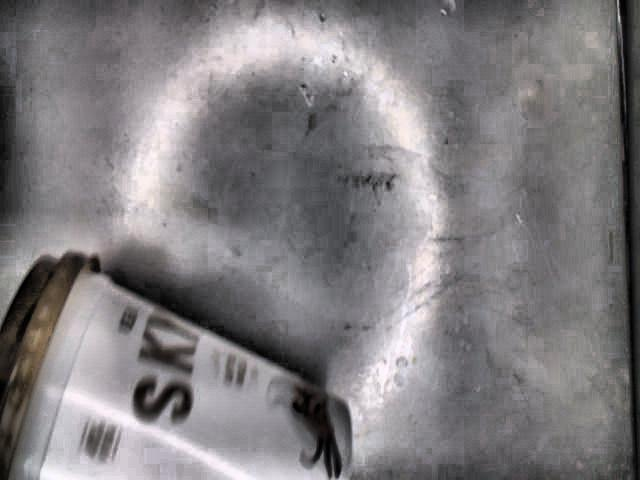Plastic: (0, 253, 356, 480)
